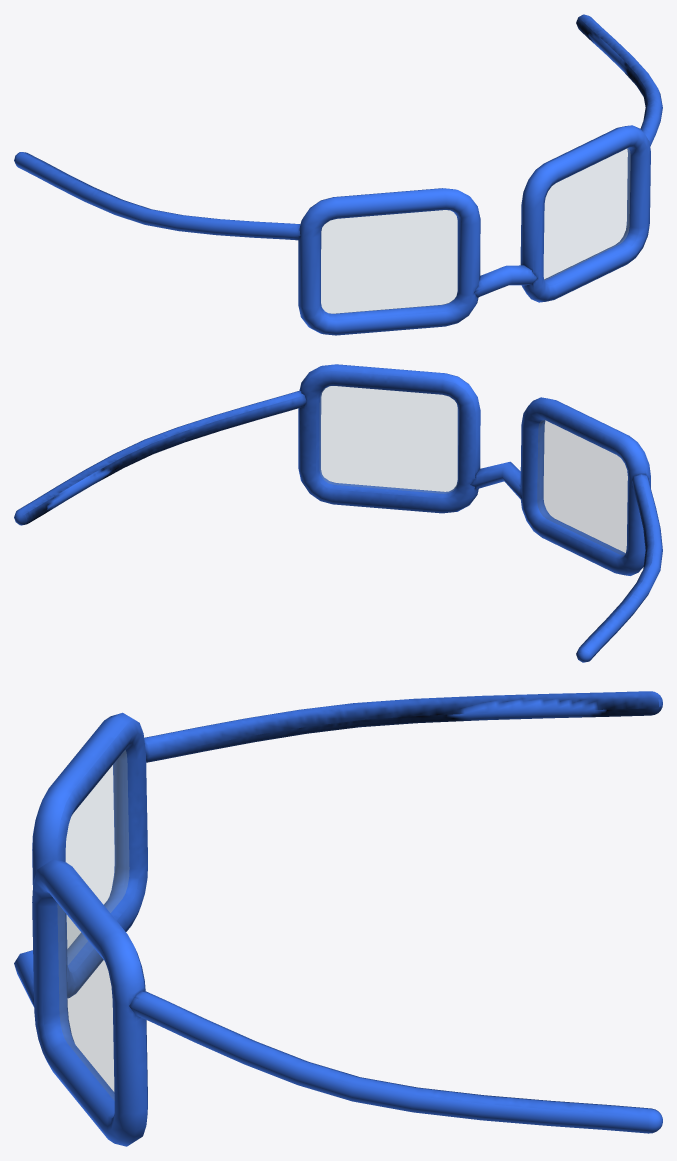
The model's file is glasses_square.glb.
3 renders of one model, top to bottom at view 1: azimuth 30°, elevation 25°; view 2: azimuth 150°, elevation 25°; view 3: azimuth 270°, elevation 25°, orthographic. The views are drawn at different scales.
Visible parts, largest first — view 1: glasses_square; view 2: glasses_square; view 3: glasses_square.
Boxes of the visible parts, x1,y1,x2,y2 form: glasses_square: (14,14,662,335); glasses_square: (14,364,662,662); glasses_square: (14,691,662,1146).
Bounding box in the file's own units: 0.5747 × 0.132 × 0.3677.
Materials: 2 (1 with a texture image).
